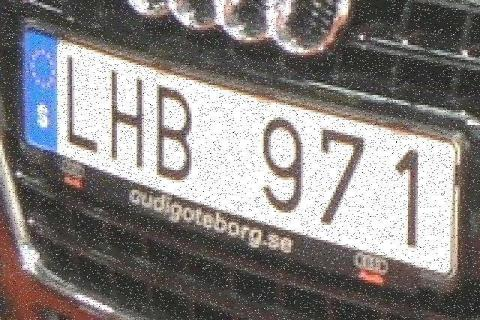LicensePlate: (16, 22, 467, 278)
